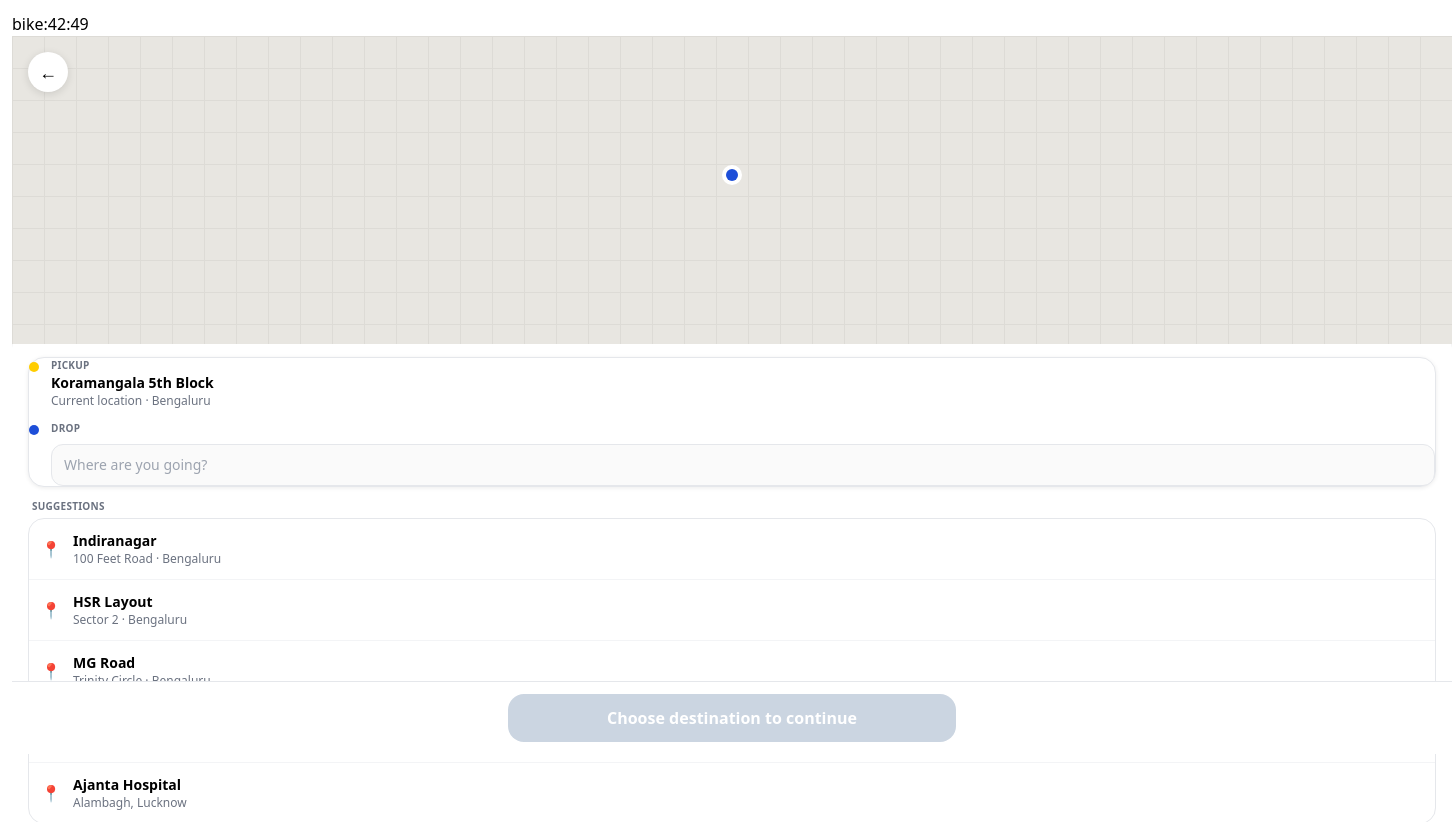
Test: ride category demo flows › switching to cab updates fare ceiling
Click the button with test id "destination-suggestion-indiranagar".
click(115, 540)  # box 29,519 -> 1435,579
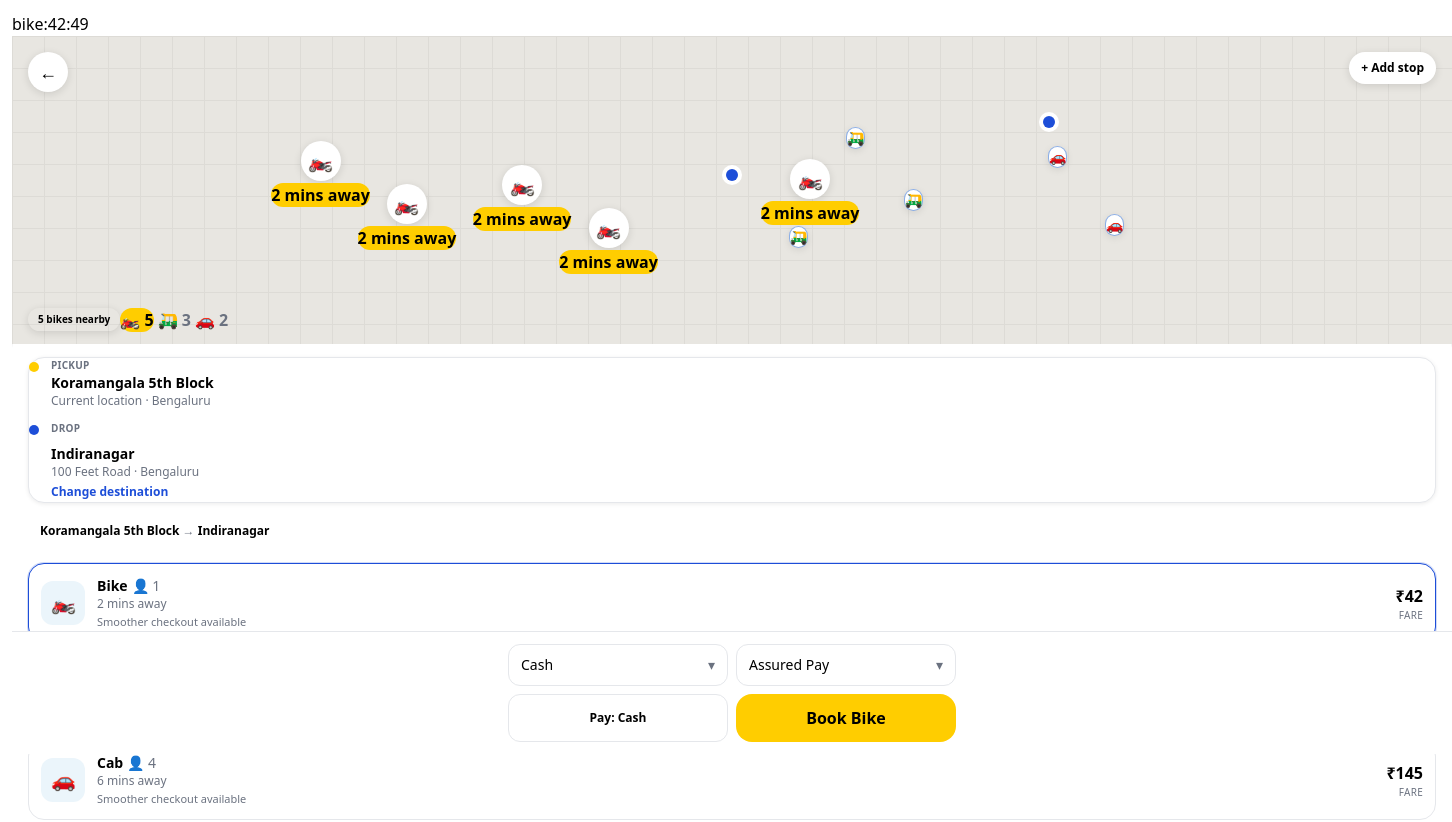
Expected: the element with test id "ride-category-list" is shown, 28,563 -> 1436,820
Click the button with test id "ride-option-cab".
click(63, 780)  # box 28,740 -> 1436,820
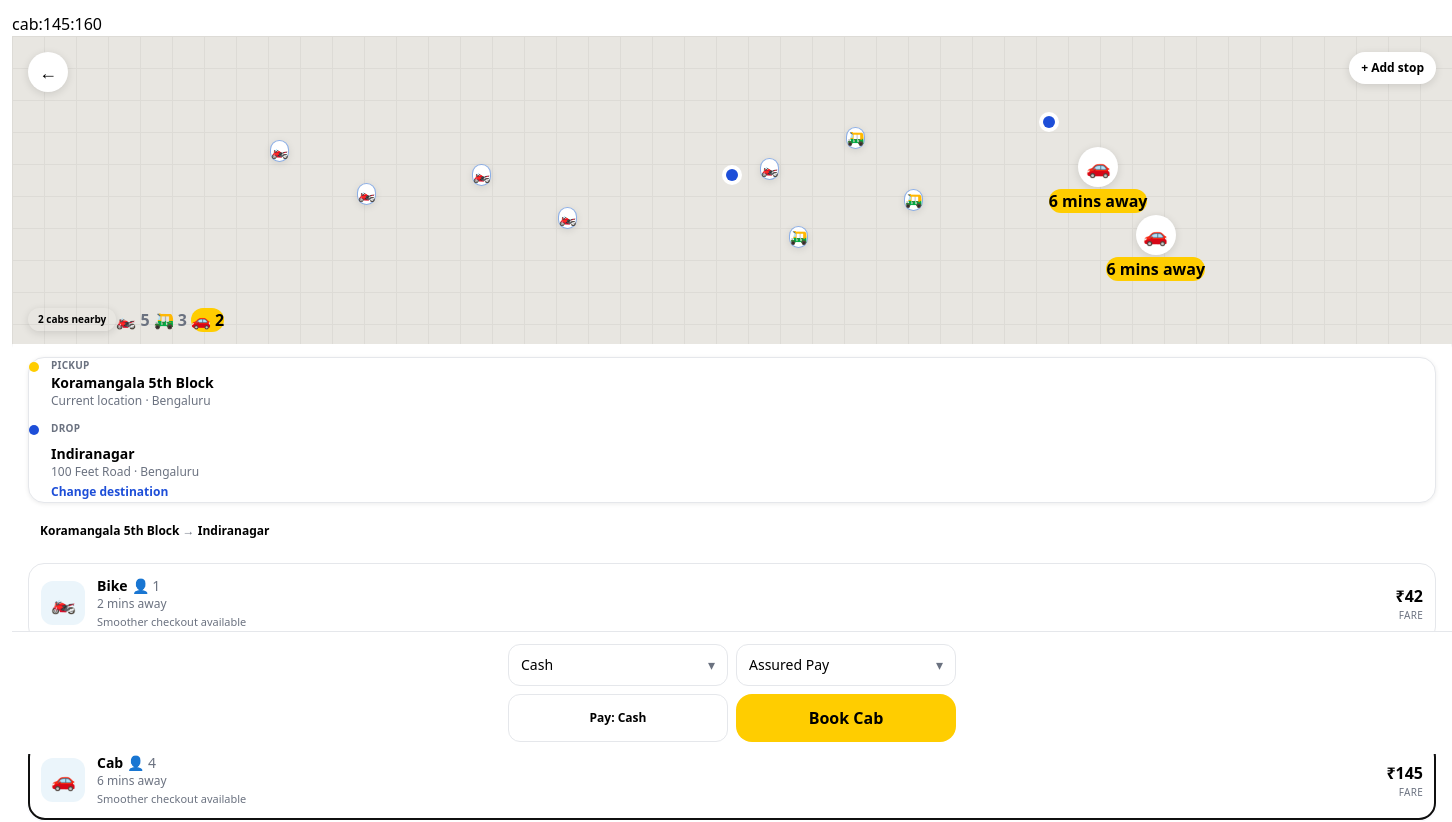
Expected: the button with test id "book-ride-cta" reads "Book Cab", 736,694 -> 956,742
